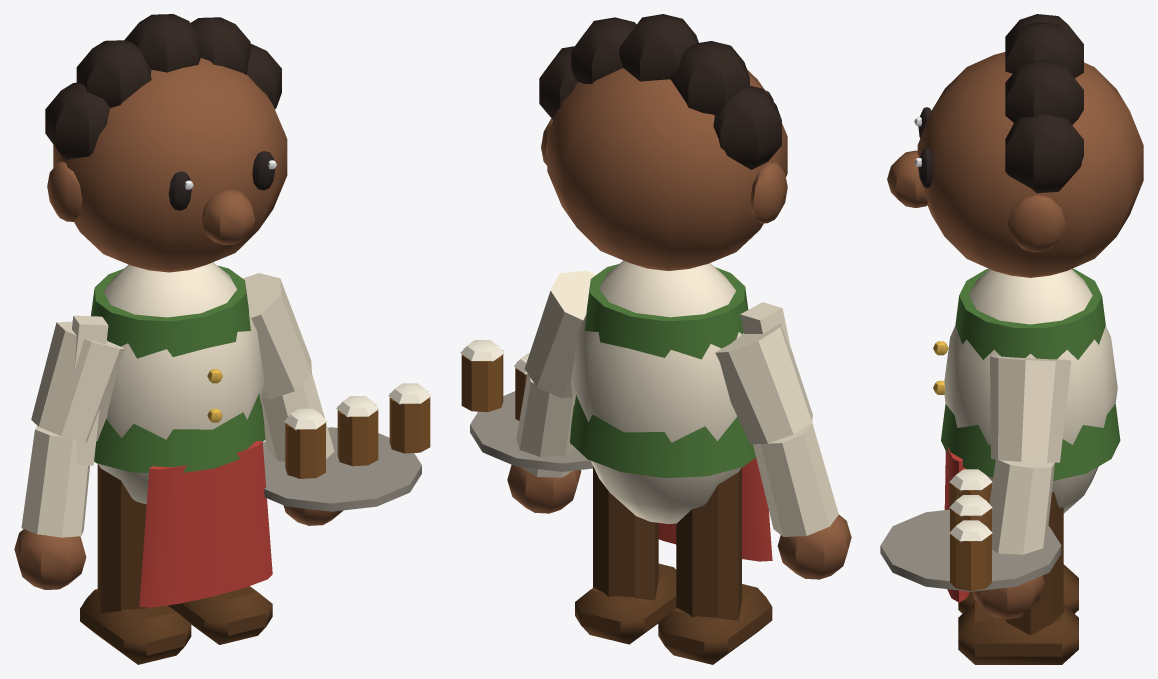
The model's file is CH_Staff_02_GarsonTobi.fbx.
The picture shows the model from 3 angles, left to right: view 1: azimuth 30°, elevation 25°; view 2: azimuth 150°, elevation 25°; view 3: azimuth 270°, elevation 25°; orthographic projection. The views are drawn at different scales.
Parts seen in each view (by area): view 1: CH_Staff_02_GarsonTobi; view 2: CH_Staff_02_GarsonTobi; view 3: CH_Staff_02_GarsonTobi.
Part boxes in pixels (x1,y1,x2,y2): CH_Staff_02_GarsonTobi: (14,14,431,664); CH_Staff_02_GarsonTobi: (460,14,851,664); CH_Staff_02_GarsonTobi: (880,14,1143,664).
Size of the model in its own units: 0.7522 by 1.12 by 0.436.
